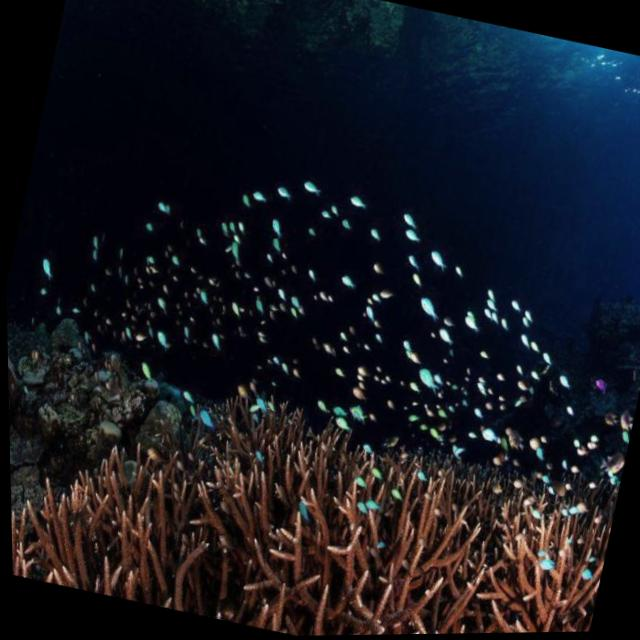Healthy Coral: (6, 340, 613, 640)
